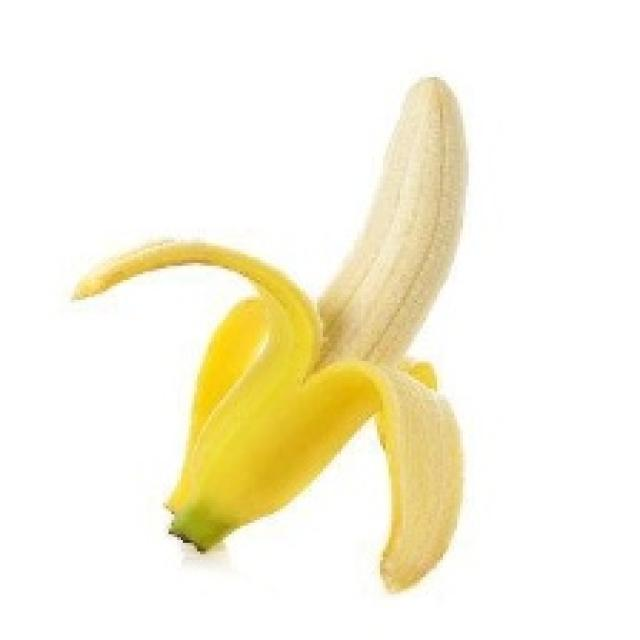Banana: (69, 74, 468, 592)
